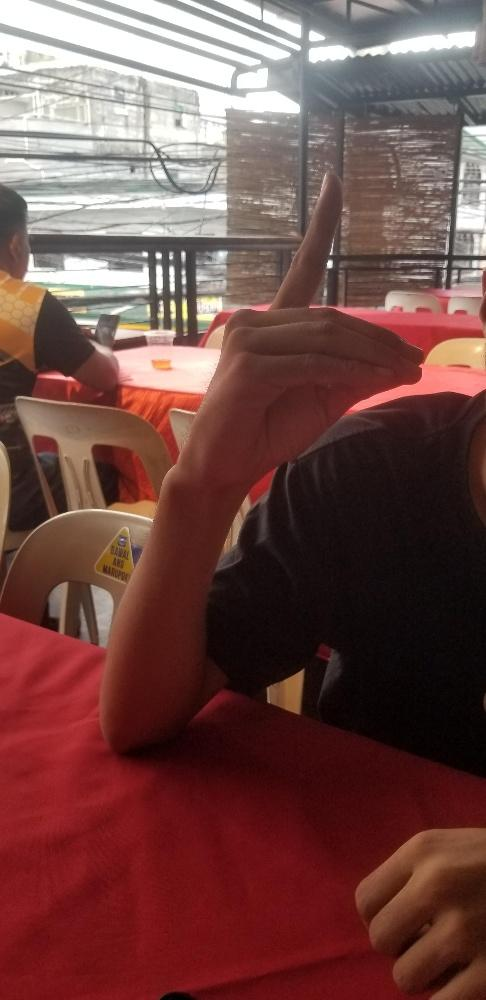d: (200, 170, 428, 486)
